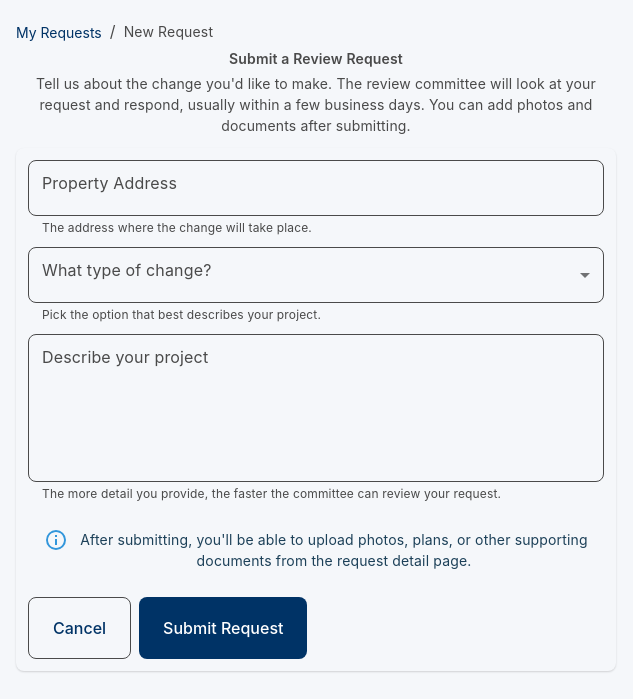
Test: ArcSubmitPage › shows friendly description length error
Type "123 Test St" into the field labelled "Property Address". click: (316, 188)
box: [28, 160, 604, 216]
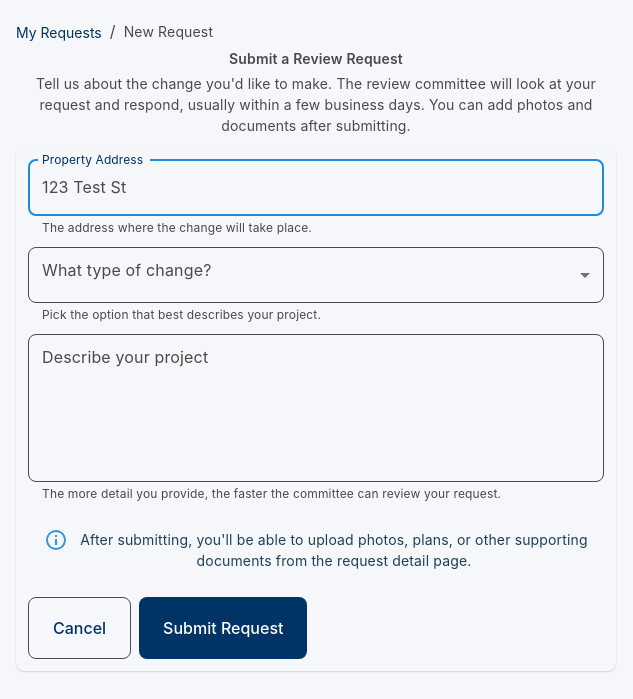
Type "Too short" into the text box labelled "Describe your project". click: (316, 408)
box: [42, 350, 590, 465]
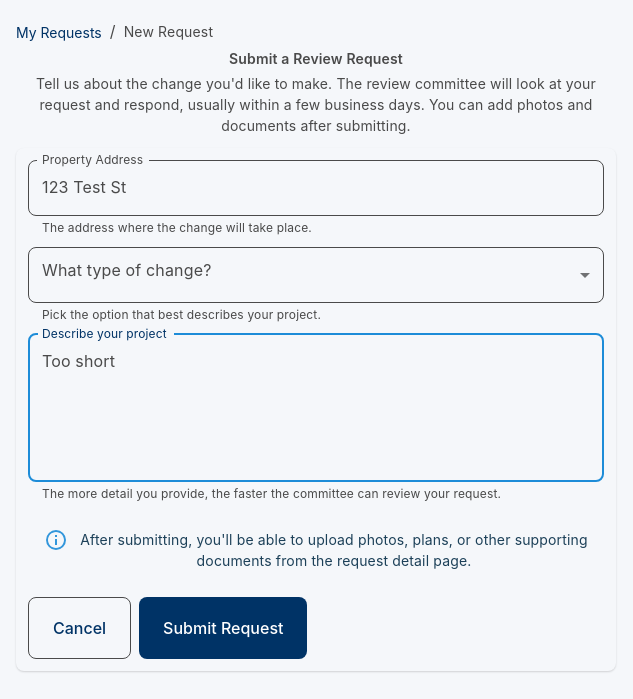
Click the button "Submit Request". click: (223, 628)
box: [139, 597, 307, 659]
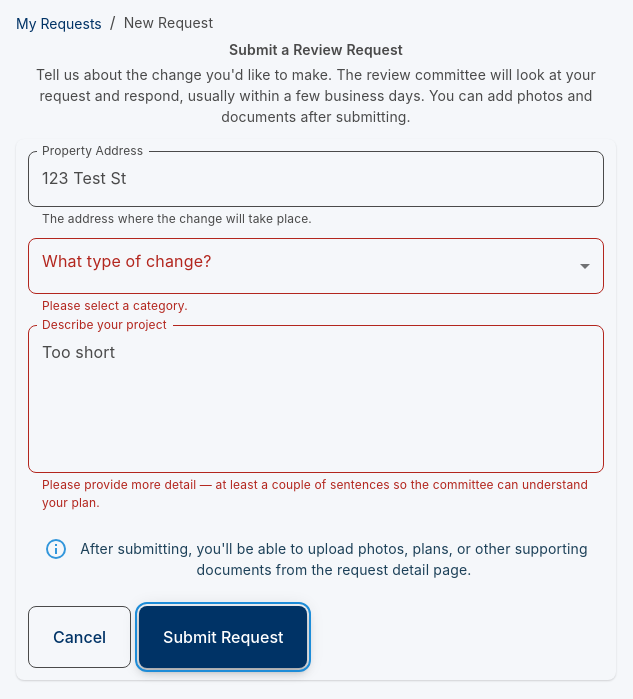
Now the text "provide more detail" is shown, box [42, 477, 588, 510]
